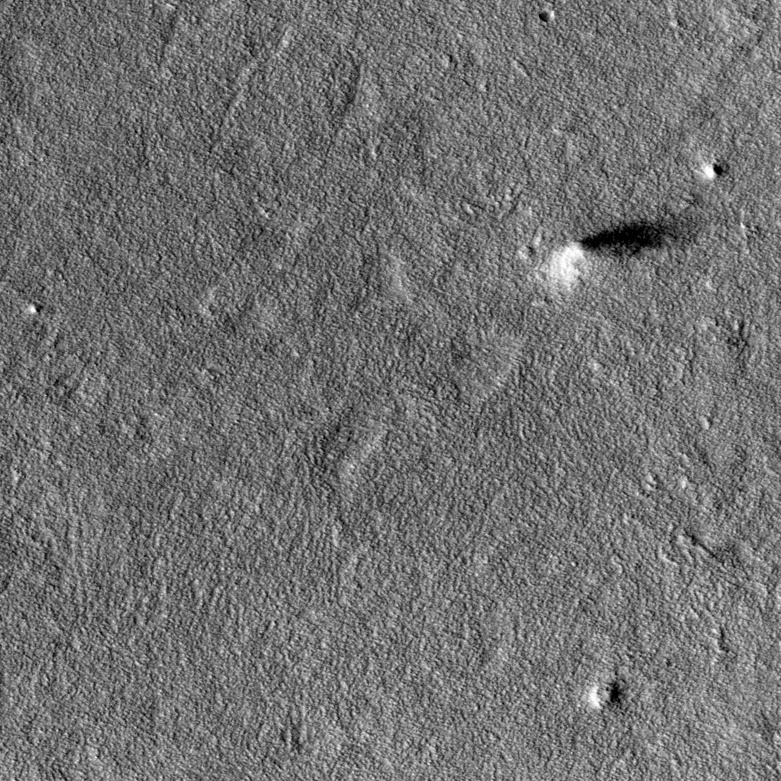dust_devil: (546, 213, 694, 288)
